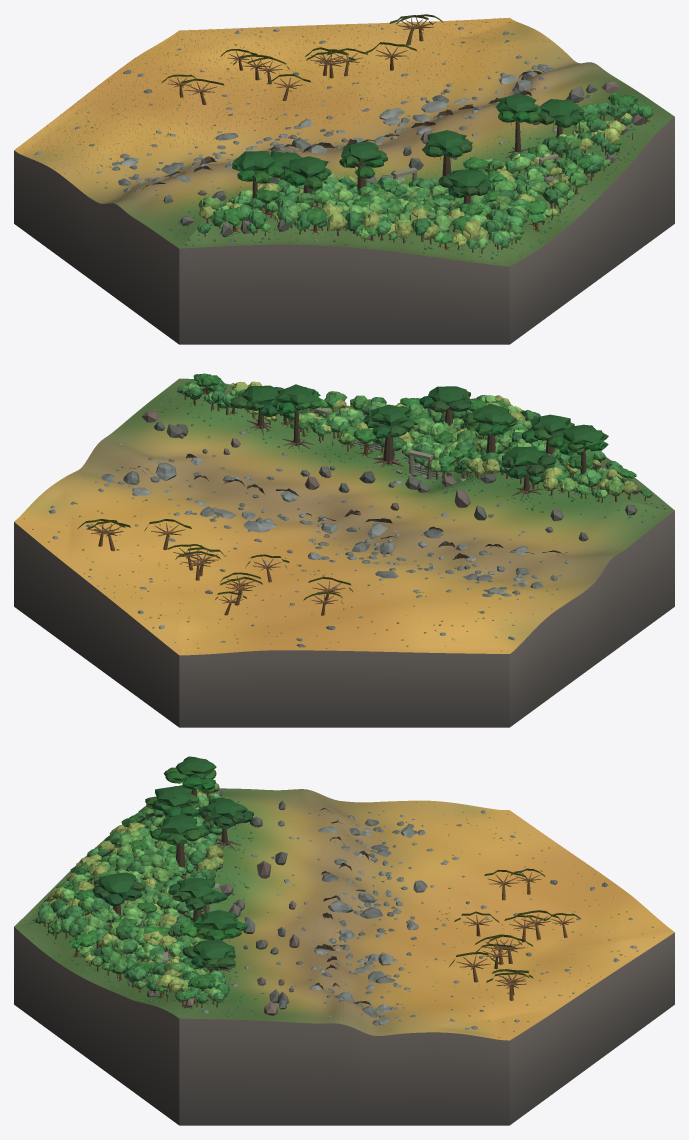
3 views of the same model, one above another, from view 1: azimuth 30°, elevation 25°; view 2: azimuth 150°, elevation 25°; view 3: azimuth 270°, elevation 25° (orthographic).
Parts seen in each view (by area): view 1: terrain, hex_side_cut, broadleaf_canopy, ancient-crowns, boulders, wildflowers, fault-stone, trunks, branches, shrubs, rock_escarpments, monumental-trunks; view 2: terrain, hex_side_cut, broadleaf_canopy, ancient-crowns, boulders, fault-stone, trunks, branches, shrubs, monumental-trunks, rock_escarpments, ruin-masonry (+1 smaller); view 3: terrain, hex_side_cut, broadleaf_canopy, ancient-crowns, boulders, fault-stone, branches, trunks, shrubs, rock_escarpments.
Part boxes in pixels (x1,y1,x2,y2): terrain: (14,17,674,266); hex_side_cut: (14,117,674,344); broadleaf_canopy: (161,14,653,249); ancient-crowns: (232,93,584,198); boulders: (34,25,598,261); wildflowers: (16,18,671,264); fault-stone: (163,81,646,238); trunks: (179,29,650,253); branches: (168,17,587,245); shrubs: (23,22,662,263); rock_escarpments: (141,70,541,190); monumental-trunks: (252,121,562,208); terrain: (14,378,674,655); hex_side_cut: (14,511,674,727); broadleaf_canopy: (77,373,652,603); ancient-crowns: (230,384,608,478); boulders: (49,392,645,647); fault-stone: (141,390,639,541); trunks: (98,387,645,615); branches: (86,387,630,605); shrubs: (23,394,666,651); monumental-trunks: (257,409,586,493); rock_escarpments: (129,453,565,559); ruin-masonry: (309,407,442,479); terrain: (14,788,674,1040); hex_side_cut: (14,927,674,1125); broadleaf_canopy: (35,778,580,1003); ancient-crowns: (93,756,253,969); boulders: (25,791,654,1031); fault-stone: (107,788,299,1015); branches: (77,872,574,1004); trunks: (44,793,567,1009); shrubs: (25,792,653,1037); rock_escarpments: (314,807,371,1005).
Bounding box in the file's own units: 4330 × 1366 × 5000.
